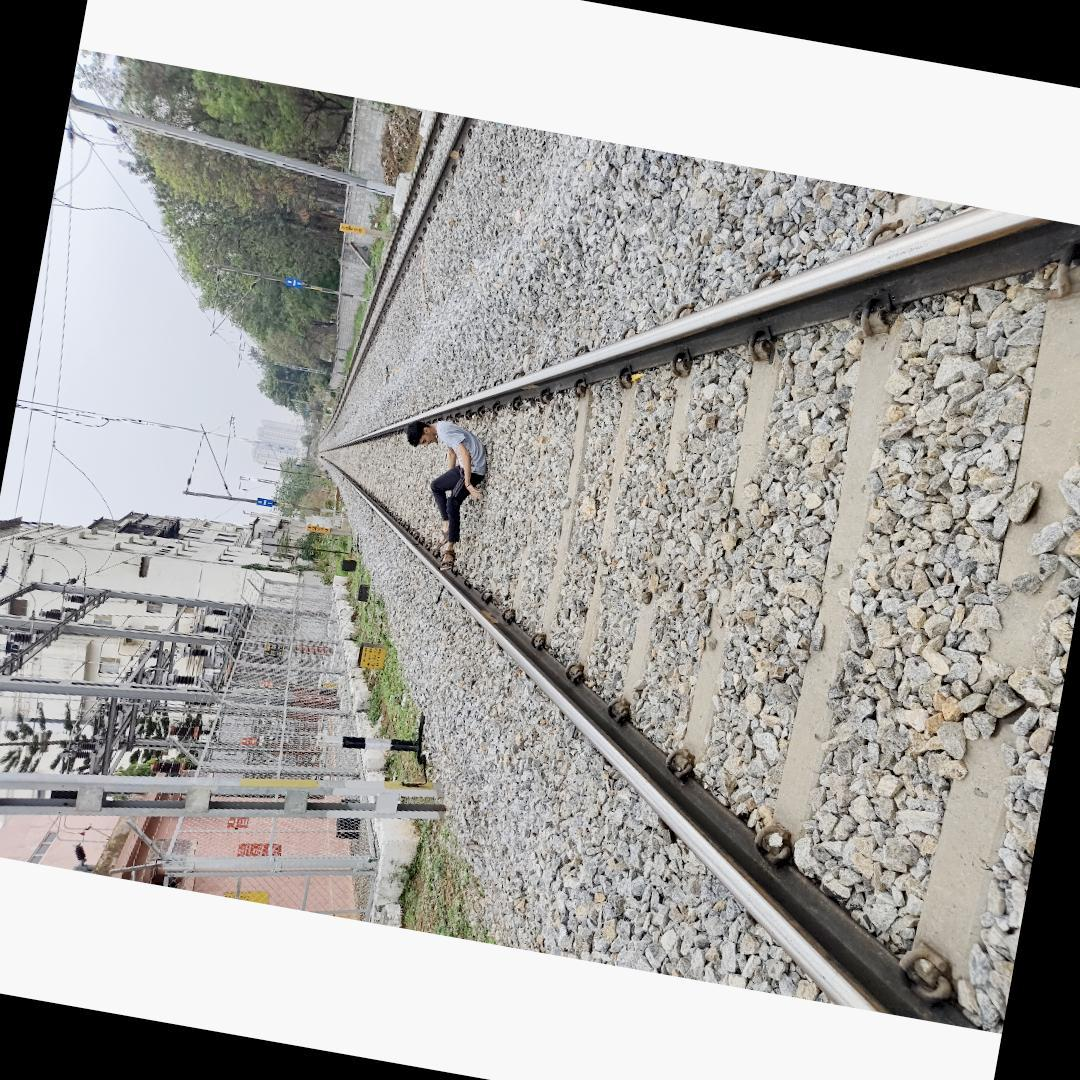sitting: (382, 412, 496, 574)
track: (306, 203, 1080, 1030)
